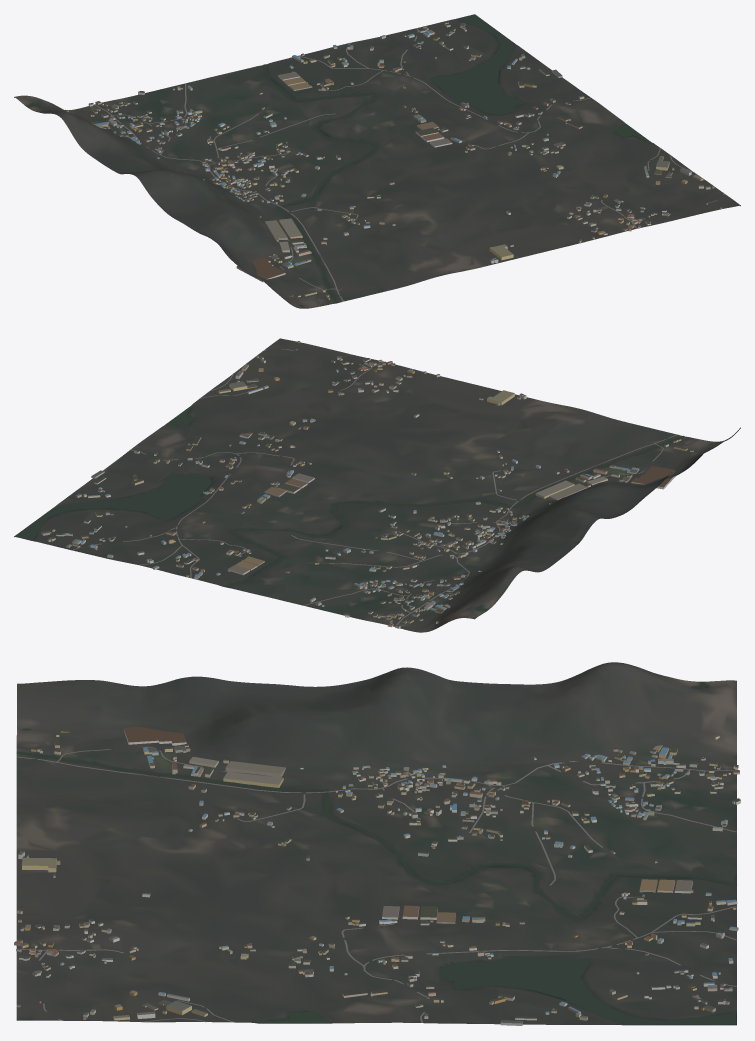
The picture shows the model from 3 angles, top to bottom: view 1: azimuth 30°, elevation 25°; view 2: azimuth 150°, elevation 25°; view 3: azimuth 270°, elevation 25°; orthographic projection. The views are drawn at different scales.
Parts seen in each view (by area): view 1: ground, buildings, water, roads; view 2: ground, buildings, water, roads; view 3: ground, buildings, water, roads.
Boxes of the visible parts, box(x1,y1,x2,y2) form: ground: box(14, 19, 740, 308); buildings: box(65, 22, 722, 299); water: box(26, 14, 650, 307); roads: box(94, 28, 724, 301); ground: box(14, 338, 740, 632); buildings: box(41, 341, 698, 628); water: box(15, 406, 713, 610); roads: box(72, 348, 677, 626); ground: box(16, 662, 736, 1025); buildings: box(14, 727, 740, 1025); water: box(16, 681, 736, 1024); roads: box(17, 746, 736, 1022).
Bounding box in the file's own units: 1408 × 134 × 1415.
